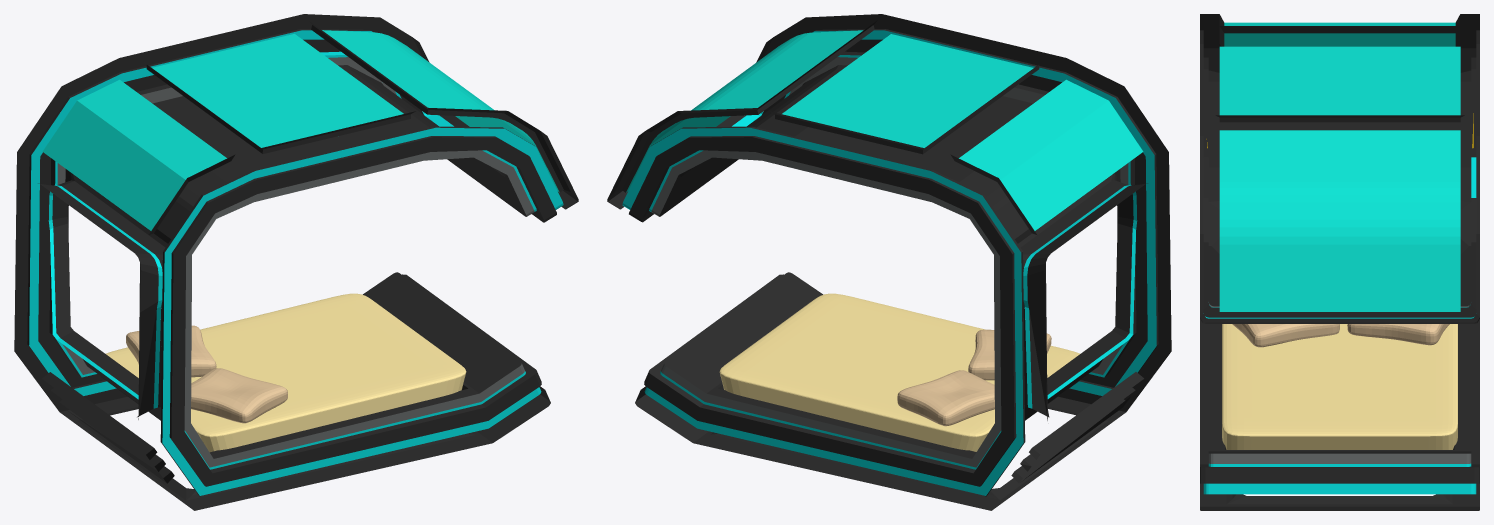
File: bed tech.fbx
The picture shows the model from 3 angles, left to right: view 1: azimuth 30°, elevation 25°; view 2: azimuth 150°, elevation 25°; view 3: azimuth 270°, elevation 25°; orthographic projection. The views are drawn at different scales.
Visible parts, largest first — view 1: BedFrame, topPanel, Mattress, Framing, Framing1, pillow1, frame, Framing2, pillow; view 2: BedFrame, topPanel, Mattress, Framing, Framing1, pillow, frame, Framing2, pillow1; view 3: topPanel, BedFrame, Mattress, Framing, Framing1, pillow1, pillow, Framing2.
Part boxes in pixels (x1=…): BedFrame: x1=14, y1=14, x2=578, y2=510; topPanel: x1=42, y1=30, x2=559, y2=230; Mattress: x1=105, y1=293, x2=466, y2=452; Framing: x1=29, y1=30, x2=563, y2=495; Framing1: x1=57, y1=57, x2=534, y2=467; pillow1: x1=191, y1=368, x2=287, y2=423; frame: x1=48, y1=185, x2=162, y2=408; Framing2: x1=55, y1=51, x2=536, y2=469; pillow: x1=126, y1=325, x2=216, y2=377; BedFrame: x1=607, y1=14, x2=1171, y2=510; topPanel: x1=626, y1=30, x2=1143, y2=230; Mattress: x1=719, y1=293, x2=1080, y2=451; Framing: x1=622, y1=30, x2=1156, y2=495; Framing1: x1=651, y1=57, x2=1128, y2=467; pillow: x1=897, y1=370, x2=994, y2=426; frame: x1=1023, y1=185, x2=1137, y2=408; Framing2: x1=649, y1=55, x2=1130, y2=469; pillow1: x1=968, y1=329, x2=1051, y2=380; topPanel: x1=1219, y1=22, x2=1460, y2=311; BedFrame: x1=1200, y1=14, x2=1479, y2=510; Mattress: x1=1222, y1=324, x2=1457, y2=449; Framing: x1=1203, y1=313, x2=1476, y2=494; Framing1: x1=1208, y1=302, x2=1471, y2=463; pillow1: x1=1232, y1=324, x2=1339, y2=347; pillow: x1=1347, y1=324, x2=1449, y2=345; Framing2: x1=1208, y1=157, x2=1476, y2=466.
Size of the model in its own units: 132 by 101 by 71.79.
